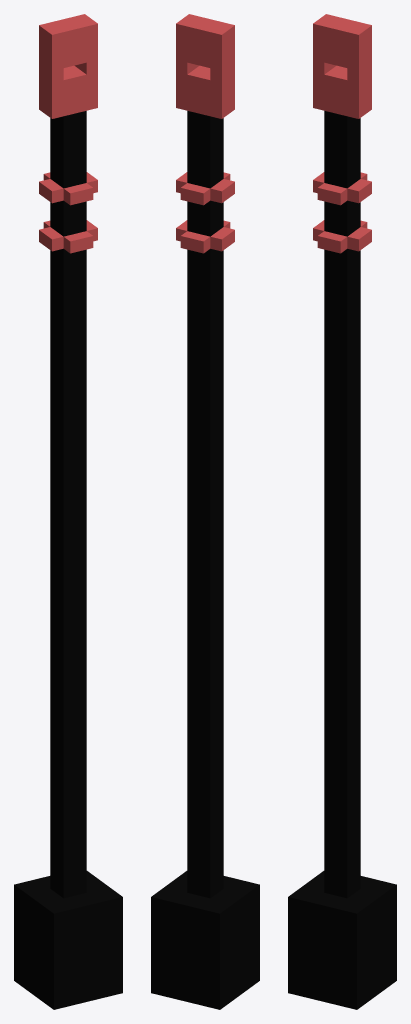
Rendered from antenna.obj.
The picture shows the model from 3 angles, left to right: view 1: azimuth 30°, elevation 25°; view 2: azimuth 150°, elevation 25°; view 3: azimuth 330°, elevation 25°; orthographic projection.
Visible parts, largest first — view 1: antenna; view 2: antenna; view 3: antenna.
Part boxes in pixels (left/top/right/bottom): antenna: left=14, top=14, right=122, bottom=1009; antenna: left=151, top=14, right=259, bottom=1009; antenna: left=288, top=14, right=396, bottom=1009.
Bounding box in the file's own units: 6 × 80 × 6.
1 material, 1 textured.
